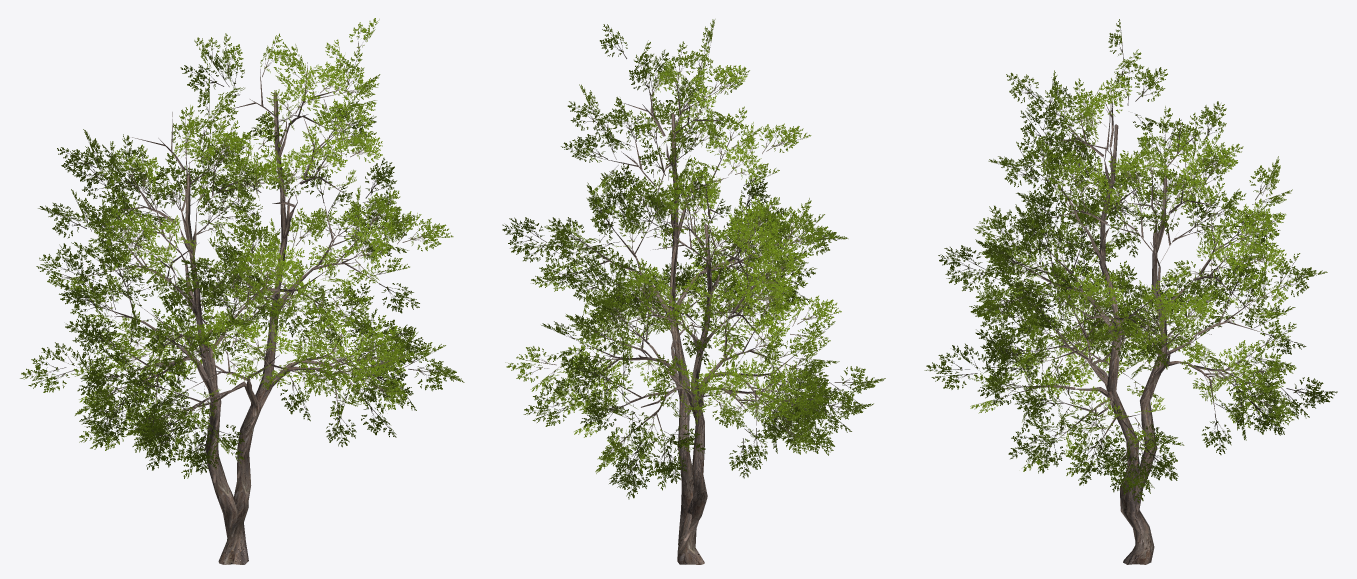
File: elm_lod1.fbx
3 renders of one model, left to right at view 1: azimuth 30°, elevation 25°; view 2: azimuth 150°, elevation 25°; view 3: azimuth 270°, elevation 25°, orthographic. The views are drawn at different scales.
Visible parts, largest first — view 1: Tree_1, Tree_0; view 2: Tree_1, Tree_0; view 3: Tree_1, Tree_0.
Boxes of the visible parts, x1,y1,x2,y2 form: Tree_1: [20, 18, 464, 478]; Tree_0: [100, 62, 379, 564]; Tree_1: [502, 19, 885, 499]; Tree_0: [574, 78, 799, 564]; Tree_1: [924, 19, 1337, 503]; Tree_0: [1007, 89, 1264, 564].
Size of the model in its own units: 20.02 by 27.68 by 20.34.
2 materials, 2 textured.
